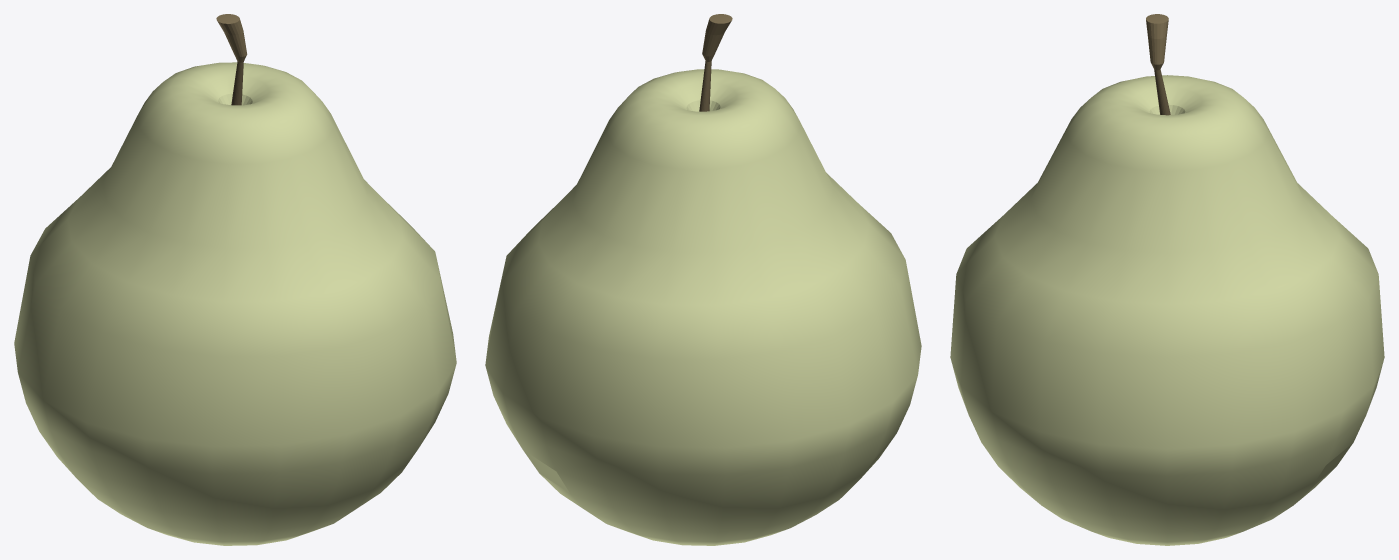
The model's file is pear.fbx.
3 renders of one model, left to right at view 1: azimuth 30°, elevation 25°; view 2: azimuth 150°, elevation 25°; view 3: azimuth 270°, elevation 25°, orthographic. The views are drawn at different scales.
Visible parts, largest first — view 1: pSphere1; view 2: pSphere1; view 3: pSphere1.
Boxes of the visible parts, x1,y1,x2,y2 form: pSphere1: (14, 14, 456, 545); pSphere1: (485, 14, 921, 545); pSphere1: (950, 14, 1384, 545).
Bounding box in the file's own units: 2.1 × 2.56 × 2.1.
